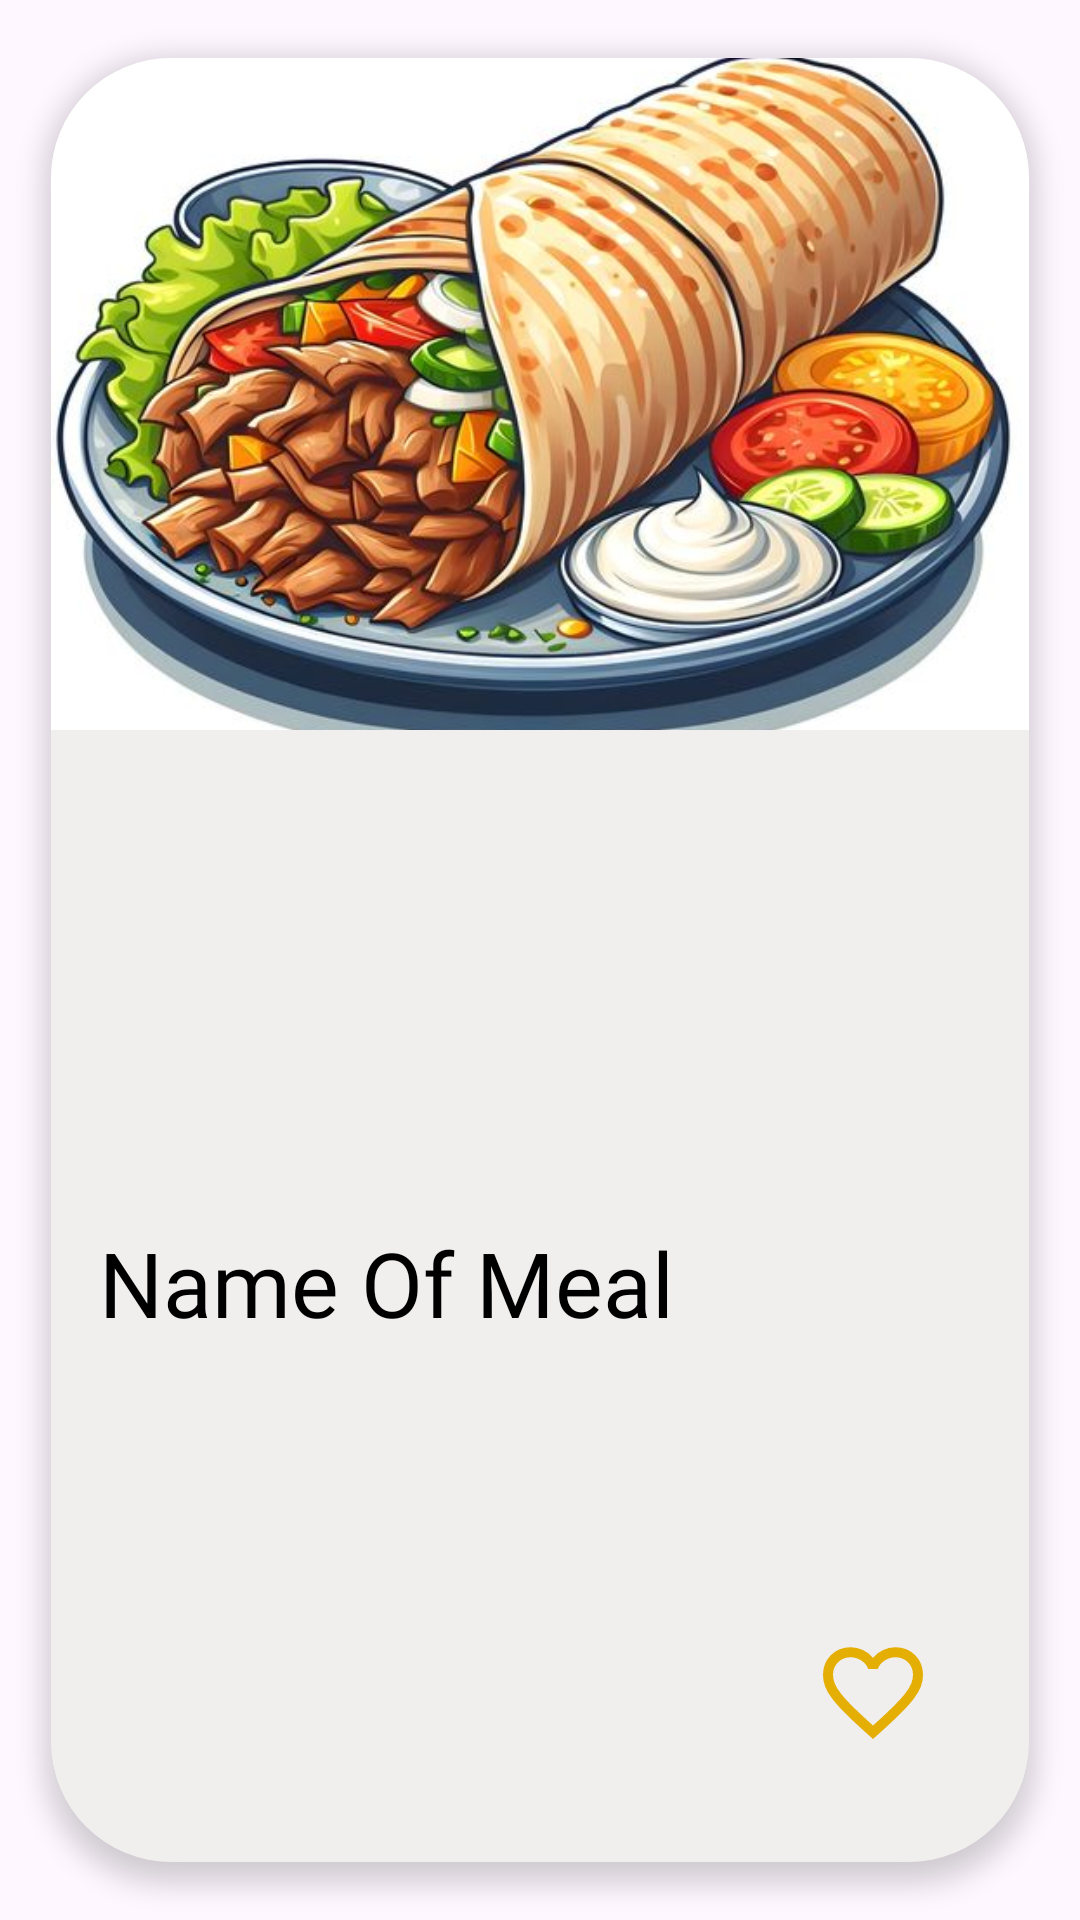

Named icons in this screenshot (1080px x 1920px) and their centers, (x,y):
favorite: (873,1693)
